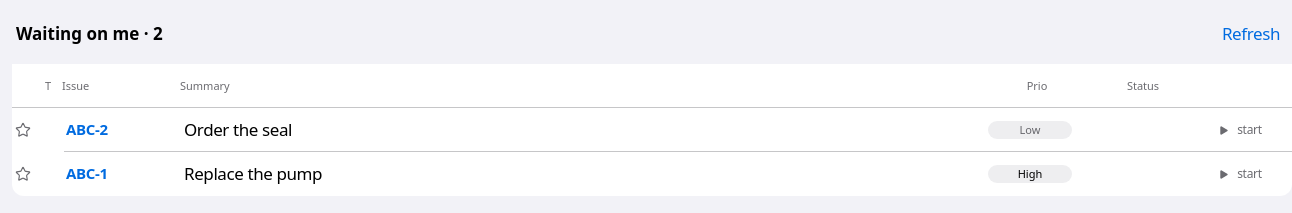
Test: sorting › offers a way back to Jira's order only once sorted
Expected: the button "ABC-2" is shown, [62,108,174,152]
Expected: the button "Restore default" is not shown
Click the button titled "Sort by issue key" at (118, 86), box [62,72,174,100]
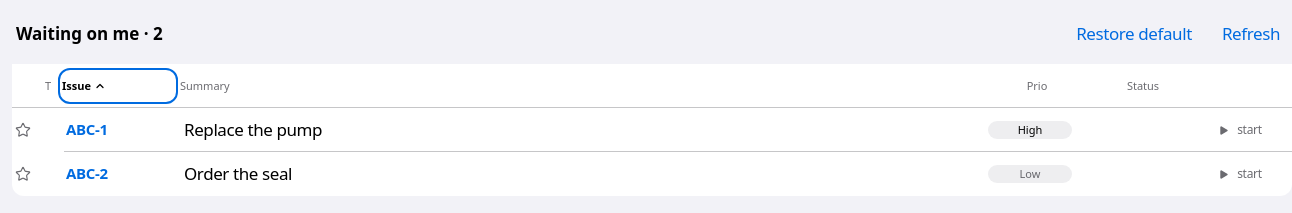
Click the button "Restore default" at (1134, 34), box [1068,12,1200,56]
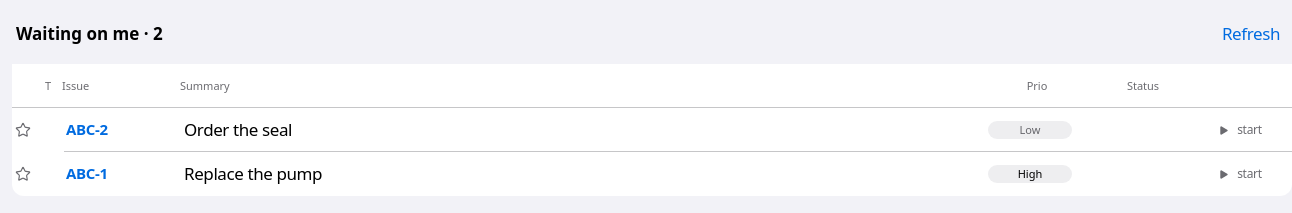
Expected: the buttons "ABC-" read "ABC-2", "ABC-1", in this order, [62,108,174,152]; [62,152,174,196]
